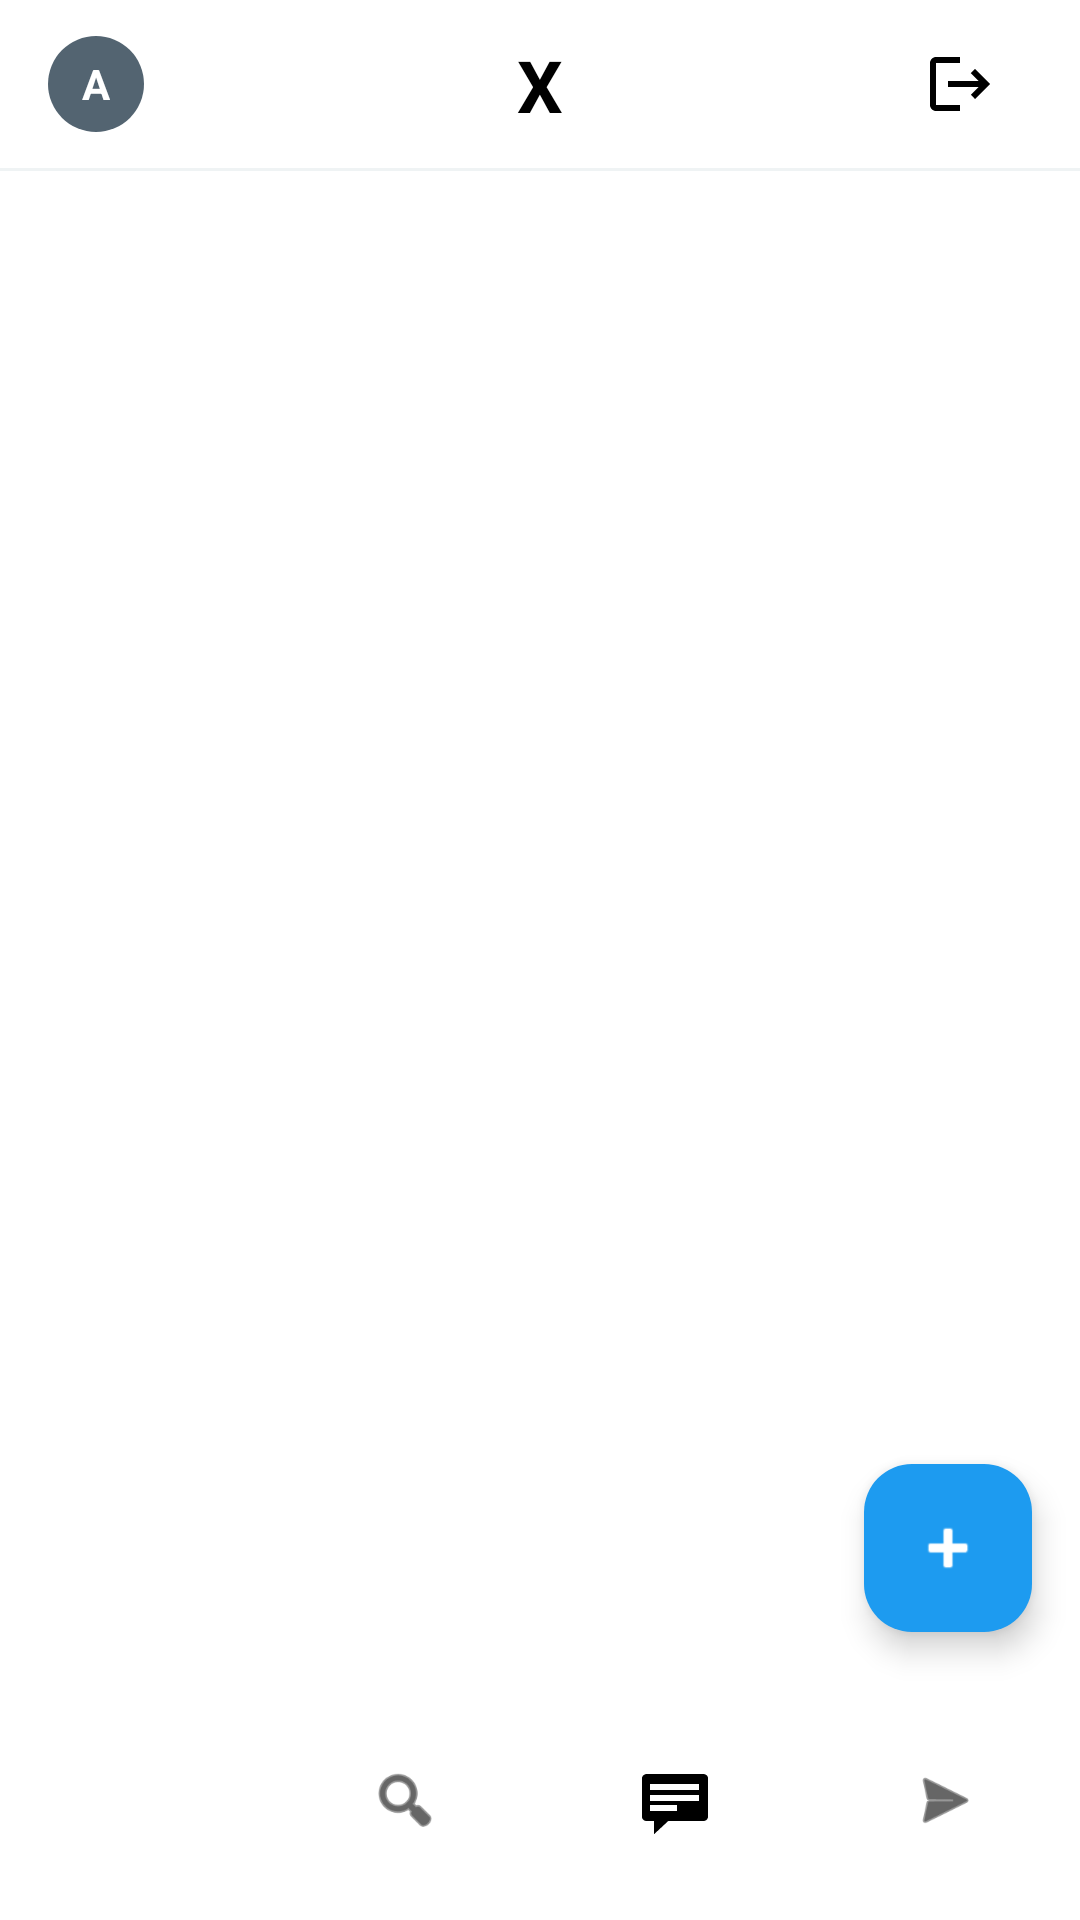

Screen size 1080×1920. Icon name, then its box in pixels as (x1, y1, x2, y2):
add: (864, 1464, 1032, 1632)
